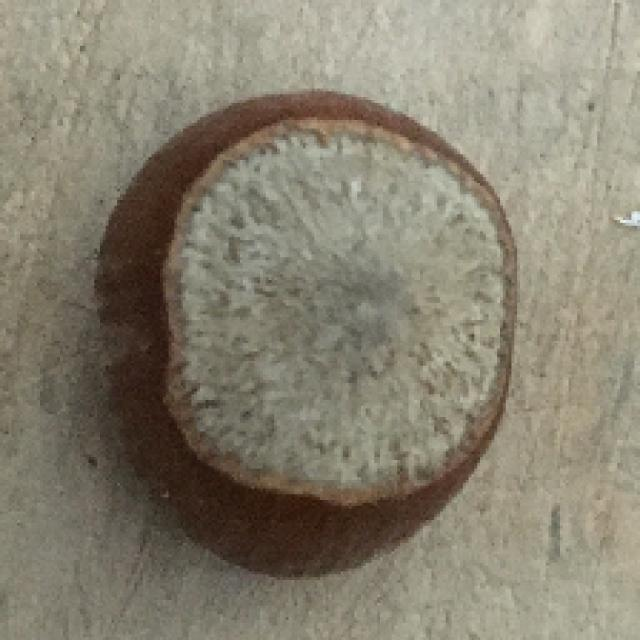QualityHazelnut: (92, 87, 518, 579)
